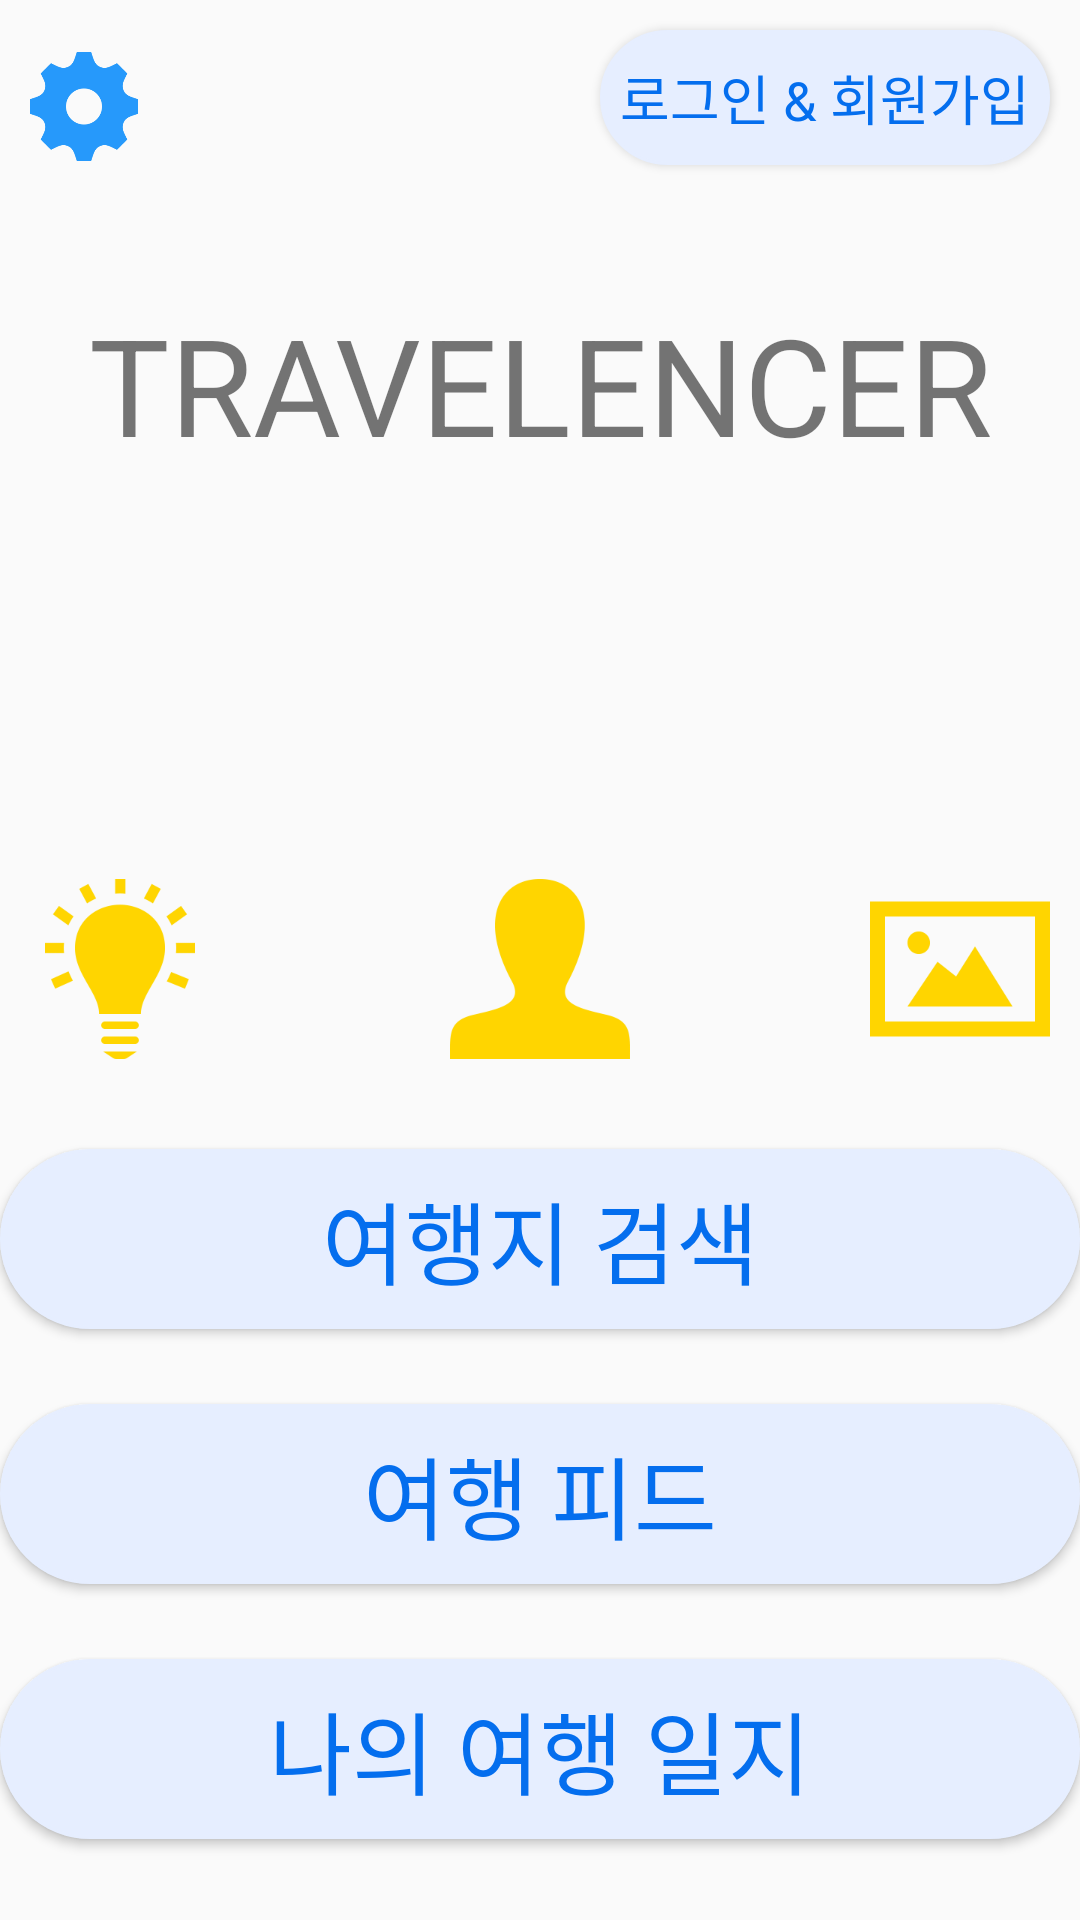

Screen size 1080 × 1920. Icon name, then its center in pixels as point (x, y):
bulb: point (120, 969)
photo: point (960, 969)
setting: point (84, 106)
user yelllow: point (540, 969)
